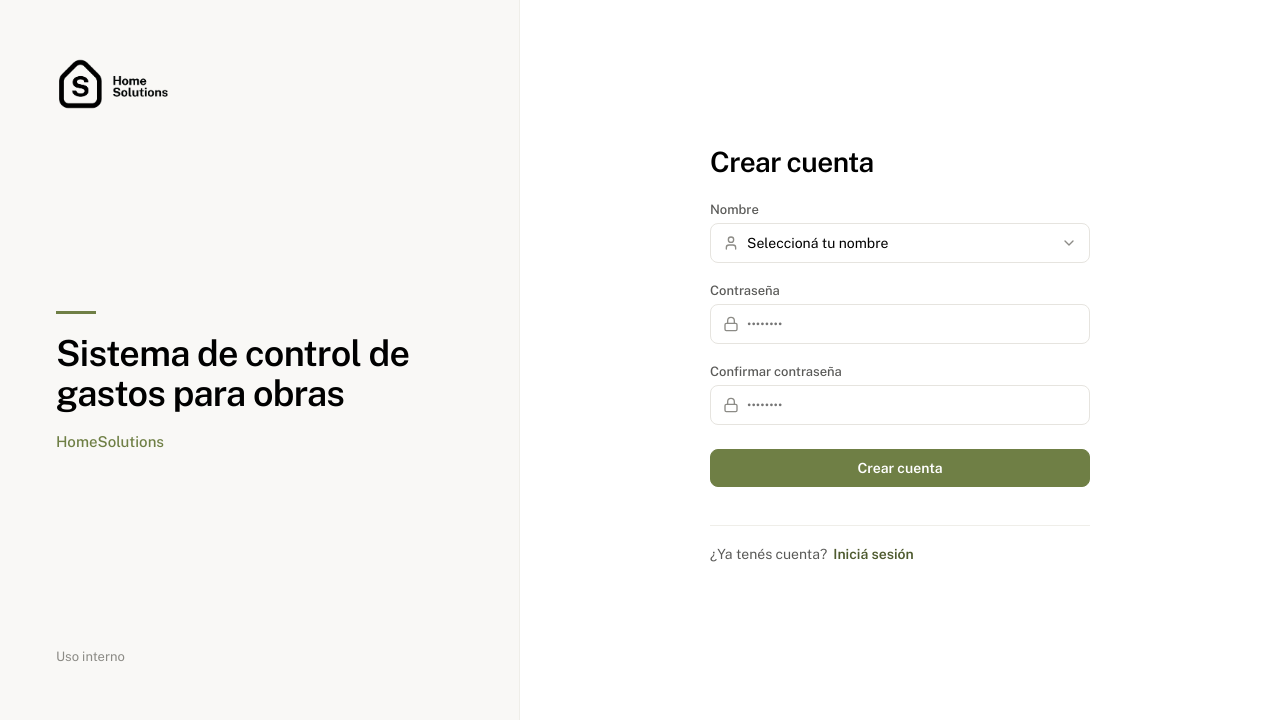
Scenario: Registro › muestra el detail real del backend en vez de suponer que el usuario ya existe
This screenshot has width=1280, height=720.
Select "Agustin" in the dropdown at (900, 242), box [747,224,1053,262]
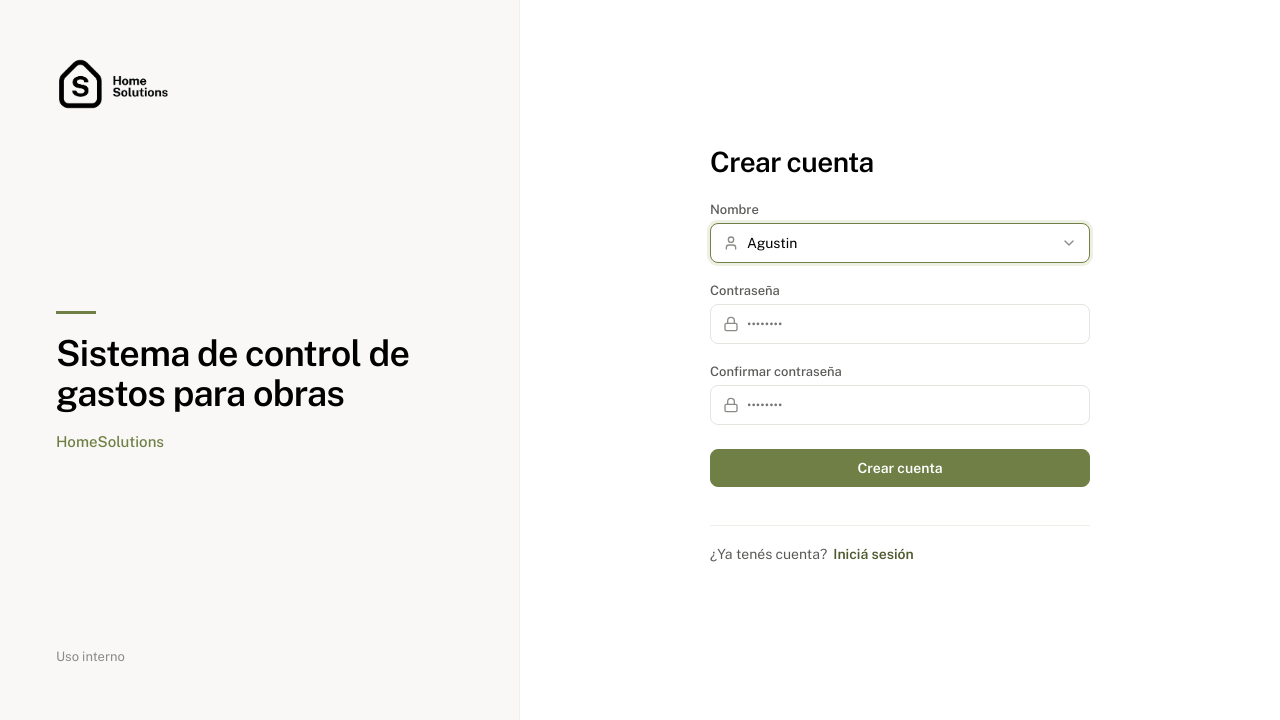
Type "clave-larga-ok" into the password field with placeholder "••••••••".
click(912, 324); type("clave-larga-ok")  # box [747,304,1077,342]
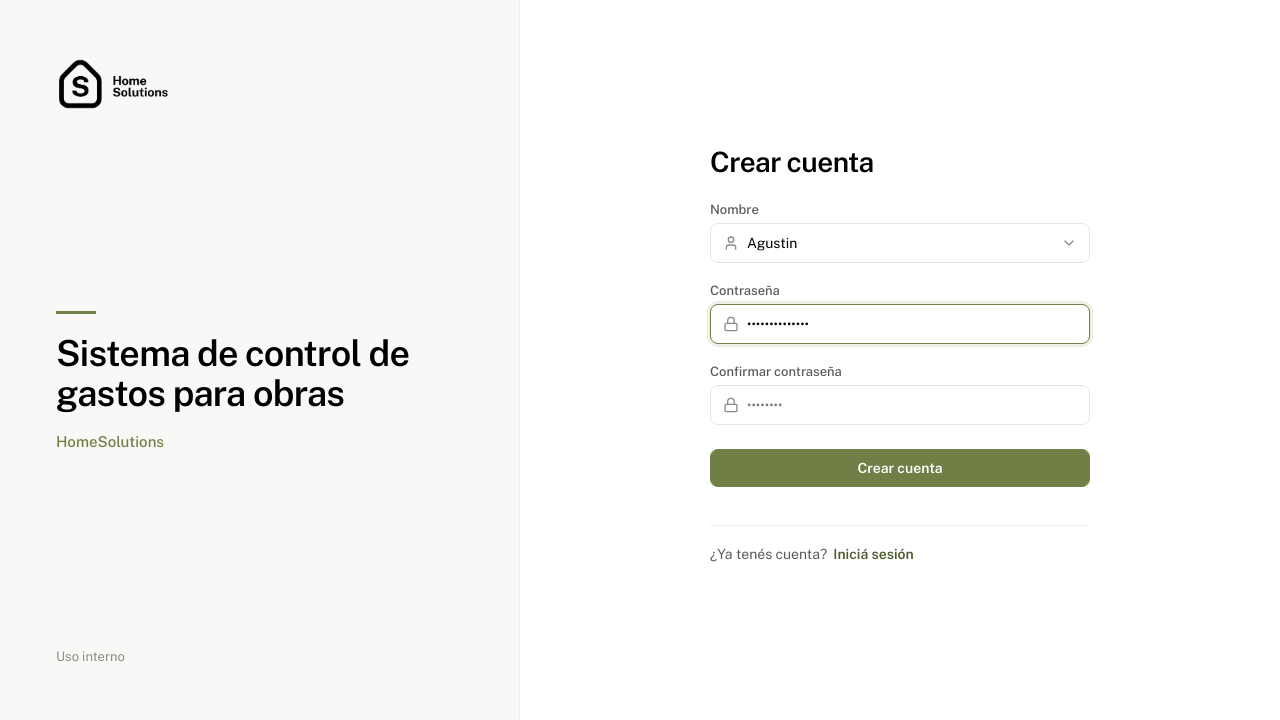
Type "clave-larga-ok" into the password field with placeholder "••••••••".
click(912, 404); type("clave-larga-ok")  # box [747,386,1077,424]
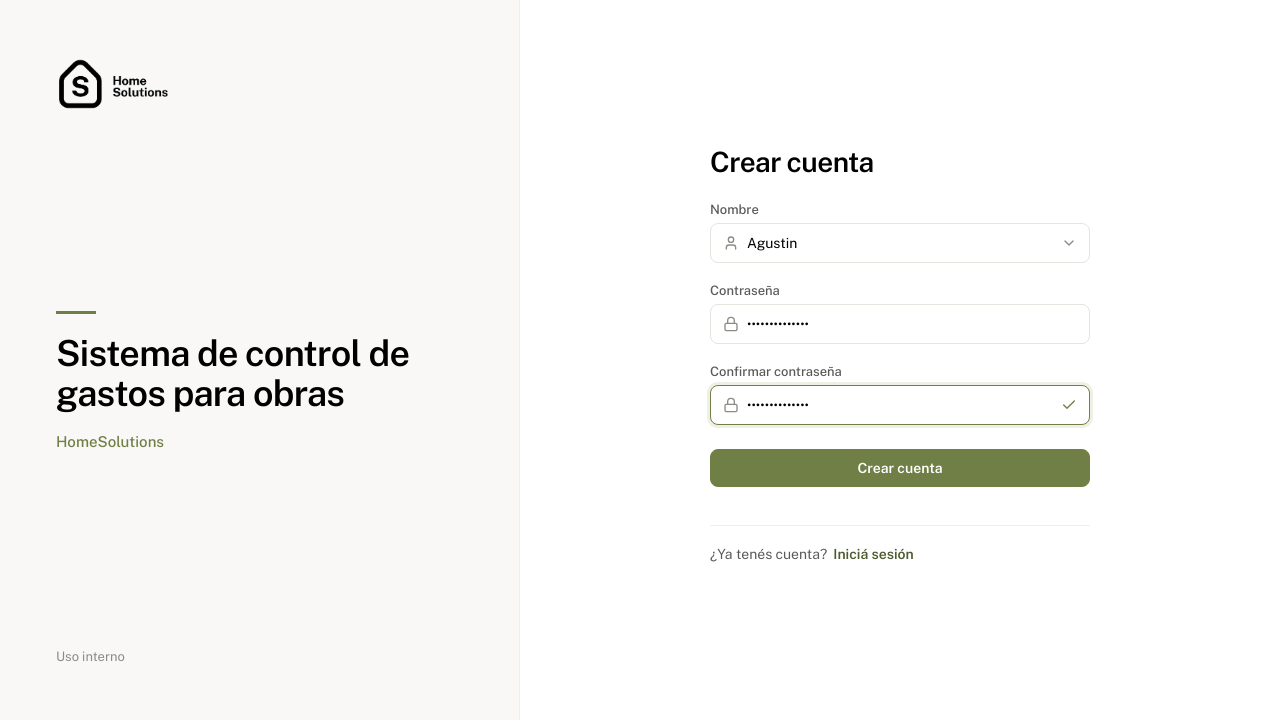
Click the button "Crear cuenta".
click(900, 468)  # box [710,448,1090,486]
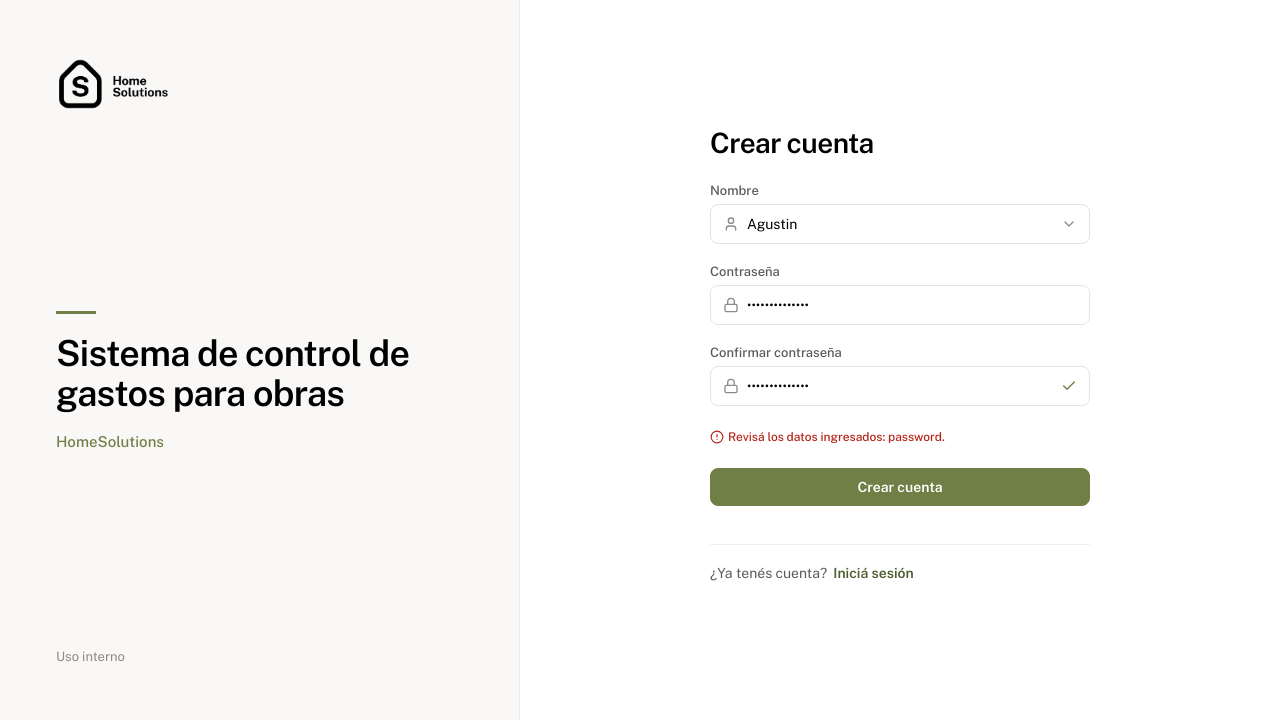
Expected: the text "Revisá los datos ingresados: password." is shown, [710,430,945,444]
